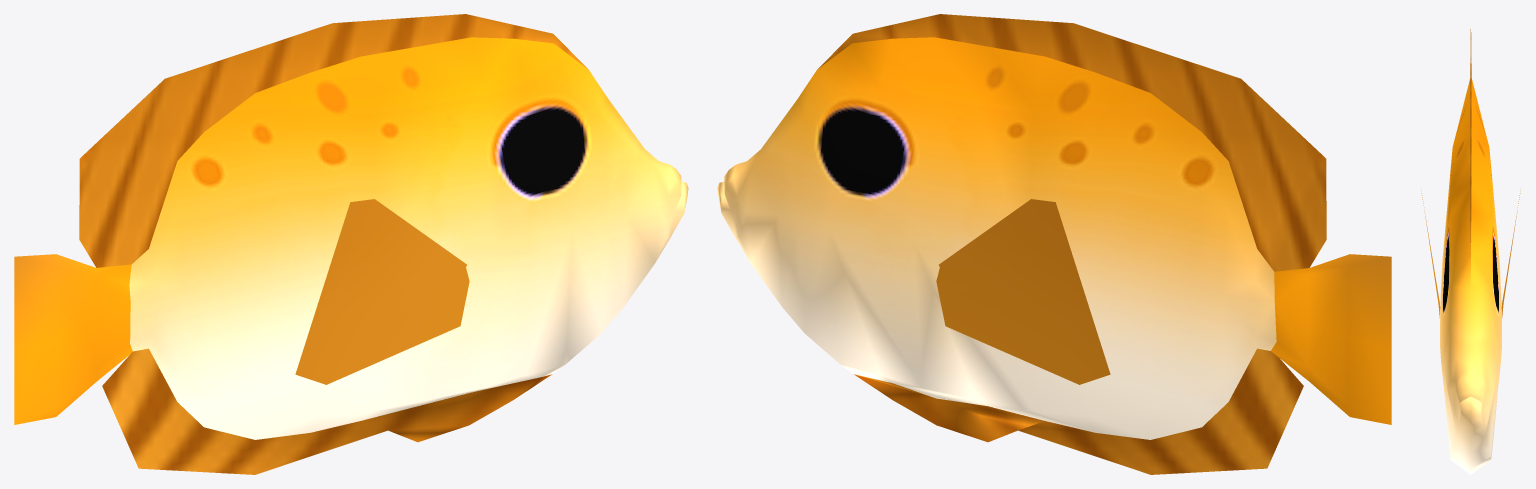
File: orange_fish.glb
3 views of the same model, side by side, from view 1: azimuth 30°, elevation 25°; view 2: azimuth 150°, elevation 25°; view 3: azimuth 270°, elevation 25° (orthographic). The views are drawn at different scales.
Visible parts, largest first — view 1: Orange_Fish; view 2: Orange_Fish; view 3: Orange_Fish.
Boxes of the visible parts, x1,y1,x2,y2 form: Orange_Fish: [14, 14, 688, 474]; Orange_Fish: [717, 14, 1391, 474]; Orange_Fish: [1421, 29, 1520, 474].
Size of the model in its own units: 0.9812 by 0.612 by 0.1615.
Materials: 1 (1 with a texture image).
